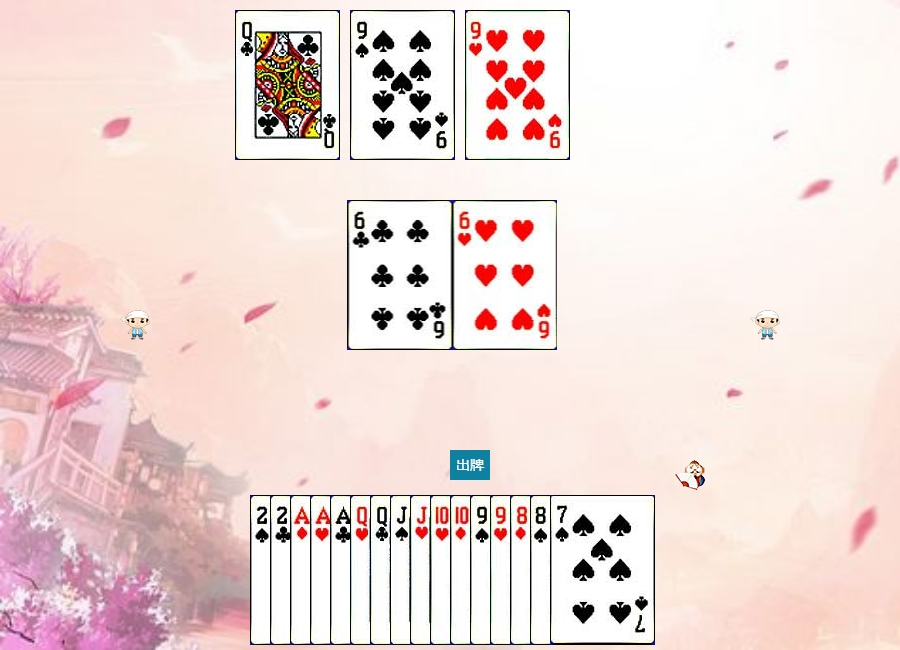10~1: (450, 495, 555, 645)
10~3: (430, 495, 535, 645)
11~3: (410, 495, 515, 645)
11~4: (390, 495, 495, 645)
12~2: (235, 10, 340, 160), (370, 495, 475, 645)
12~3: (350, 495, 455, 645)
14~1: (290, 495, 395, 645)
14~2: (330, 495, 435, 645)
14~3: (310, 495, 415, 645)
15~2: (270, 495, 375, 645)
15~4: (250, 495, 355, 645)
6~2: (348, 200, 453, 350)
6~3: (453, 200, 558, 350)
7~4: (550, 495, 655, 645)
8~1: (510, 495, 615, 645)
8~4: (530, 495, 635, 645)
9~3: (465, 10, 570, 160), (490, 495, 595, 645)
9~4: (350, 10, 455, 160), (470, 495, 575, 645)
